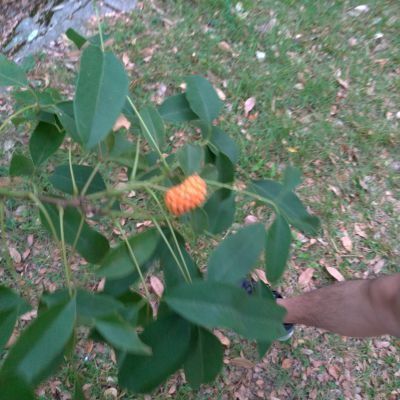eggs: (159, 172, 212, 214)
